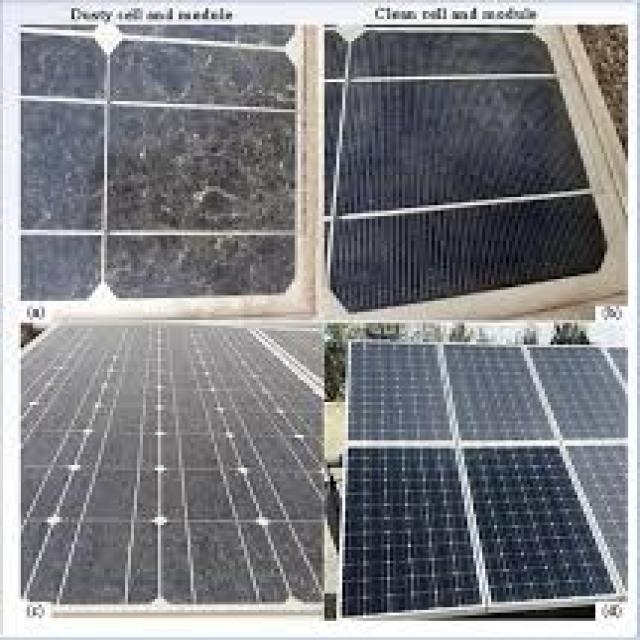faulty: (18, 315, 328, 626), (312, 29, 620, 317), (345, 323, 629, 626), (26, 14, 305, 310)
